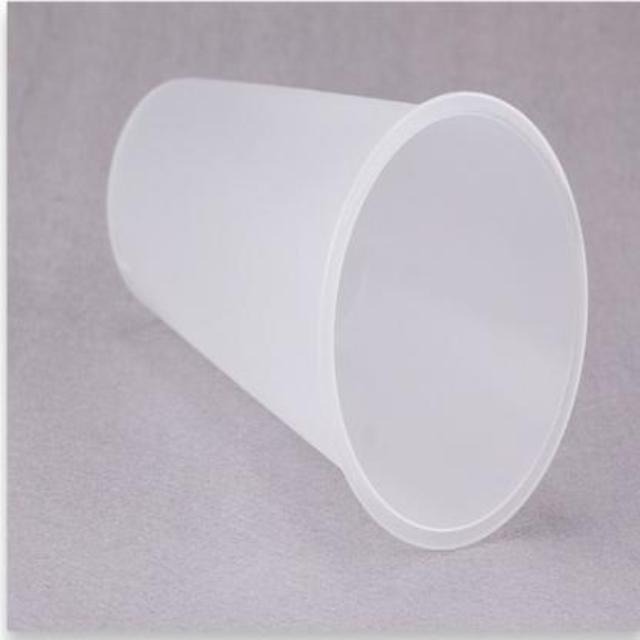plastic_box: (103, 75, 589, 555)
